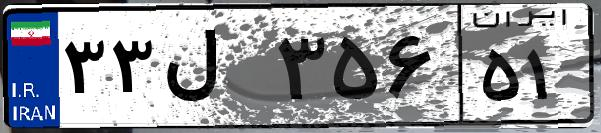1: (525, 38, 570, 115)
3: (270, 28, 330, 110), (57, 26, 110, 100), (110, 28, 158, 98)
5: (330, 28, 385, 110), (475, 38, 525, 113)
6: (385, 28, 445, 110)
ل: (158, 20, 270, 120)
